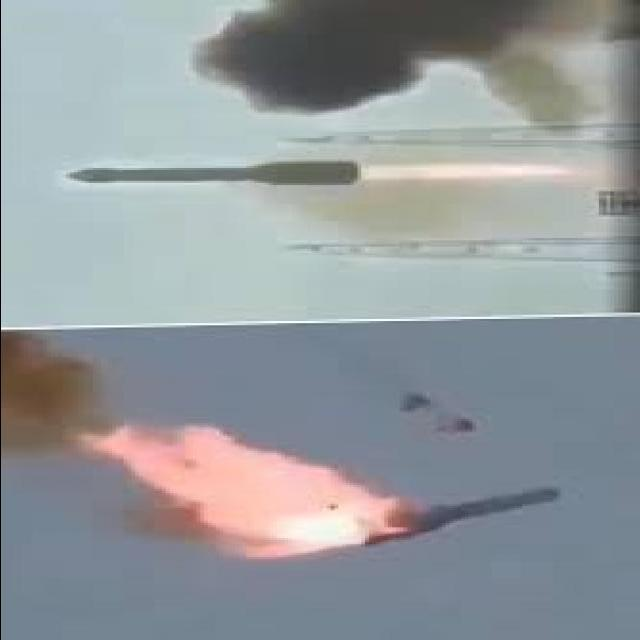Missile: (390, 477, 575, 537), (61, 158, 362, 190)
